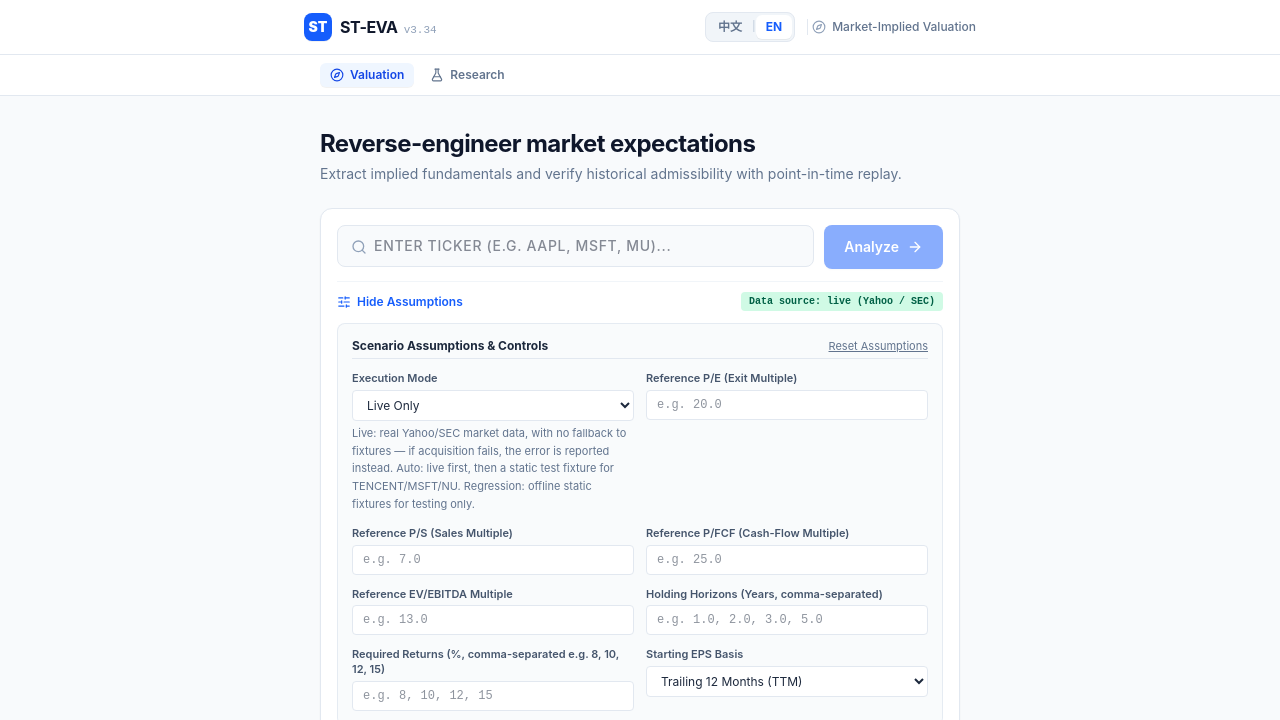
the research surface › is a separate surface from the valuation path
This screenshot has width=1280, height=720.
Check: the field with placeholder "Enter ticker (e.g. AAPL, MSFT, MU)..." is shown, box [337,225,814,267]
Click the button with test id "mode-research": (468, 75) [420,63,515,87]
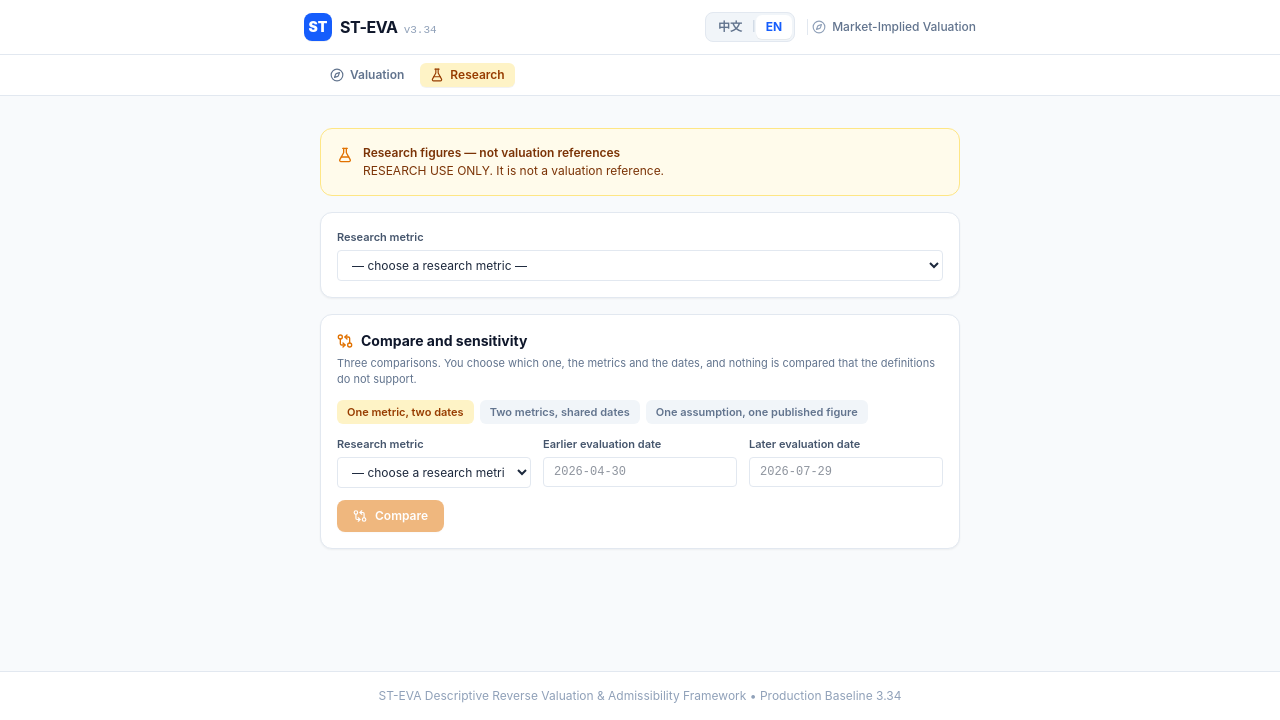
Check: the field with placeholder "Enter ticker" is not shown
Check: the element with test id "research-notice" is shown, box [320,128,960,196]
